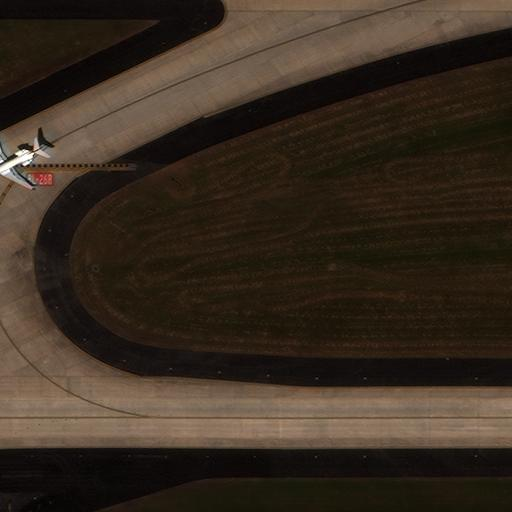Medium Civil Transport: (0, 137, 48, 192)
